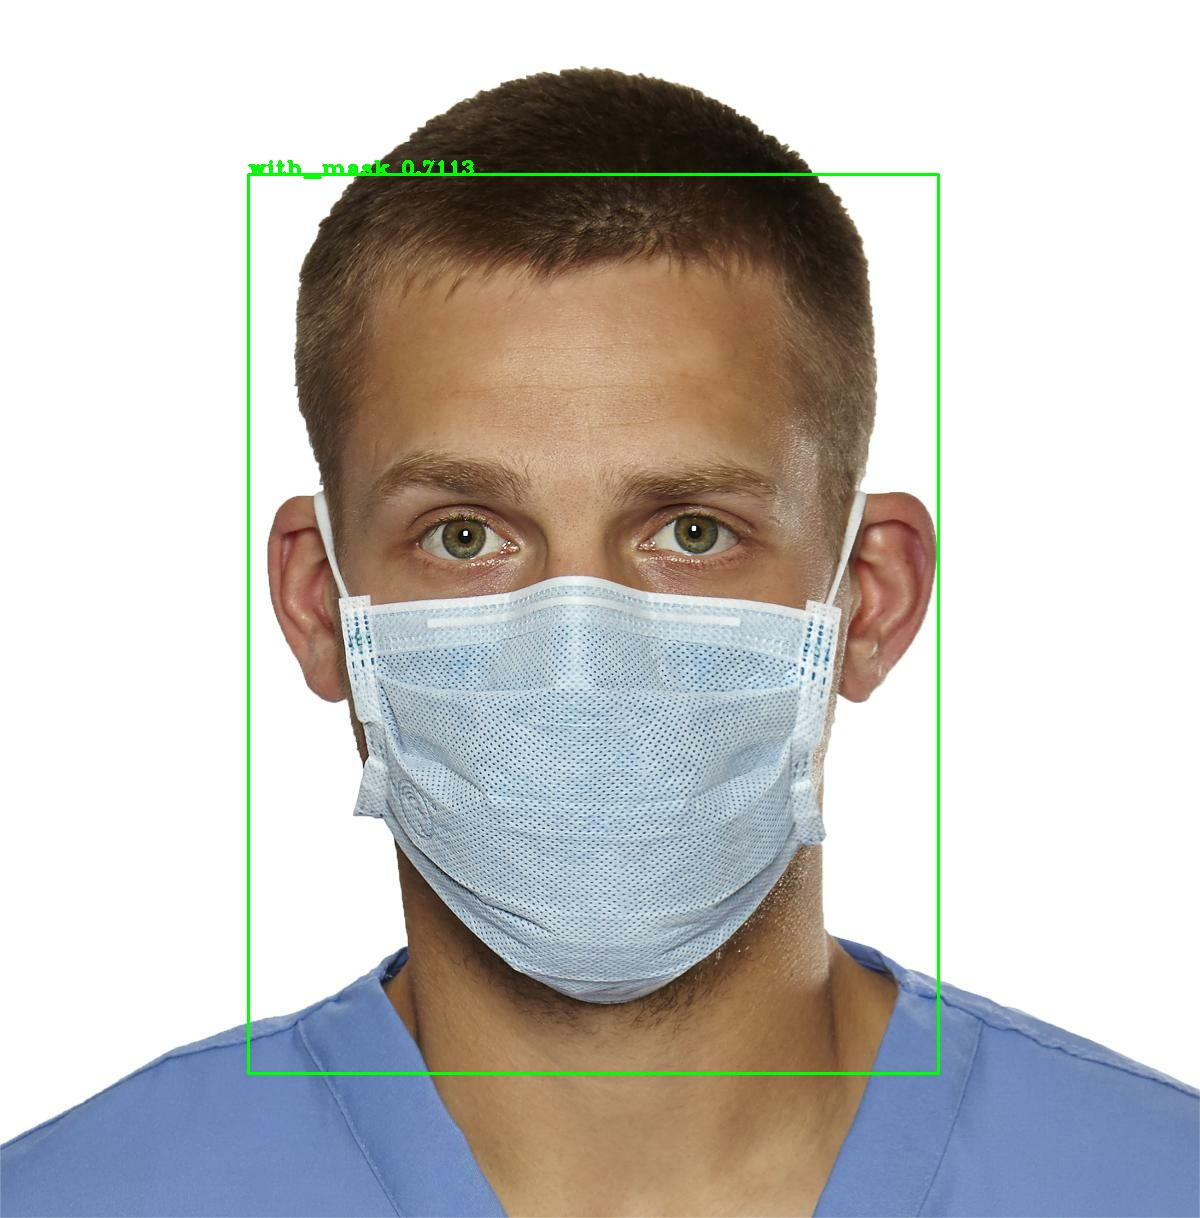with_mask: (256, 249, 924, 1046)
